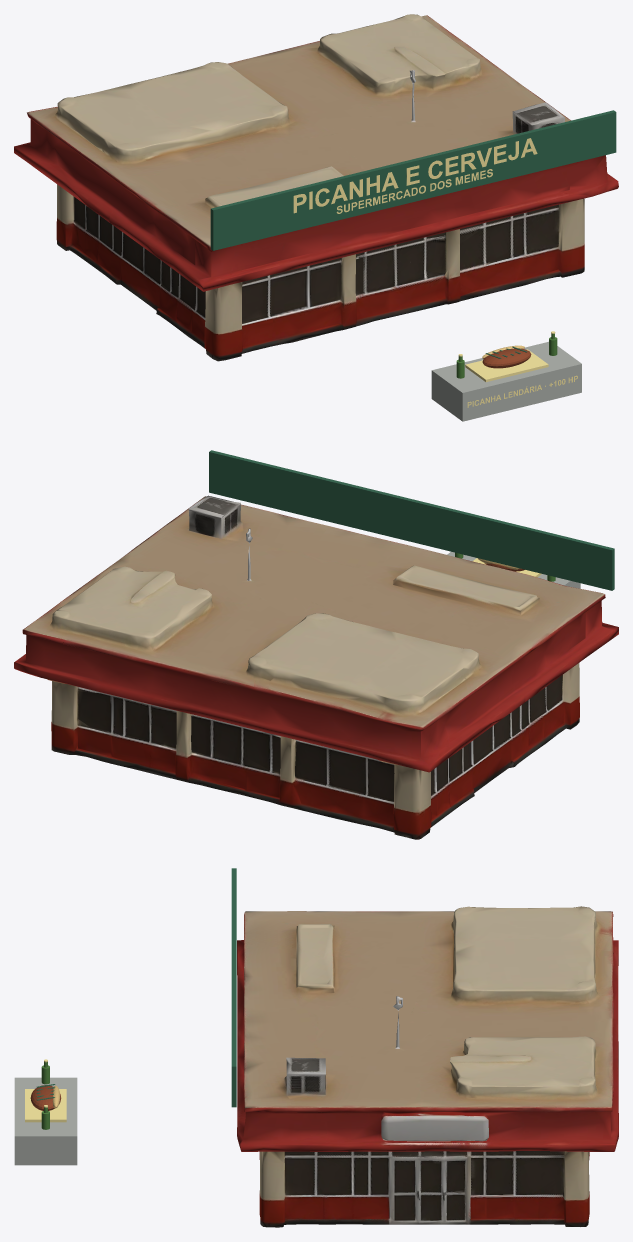
Rendered from secret-supermarket.glb.
The picture shows the model from 3 angles, top to bottom: view 1: azimuth 30°, elevation 25°; view 2: azimuth 150°, elevation 25°; view 3: azimuth 270°, elevation 25°; orthographic projection.
Parts seen in each view (by area): view 1: tripo_node_58e1c8db-f03f-4398-b671-cc76f4c10f46, Market_Header, Market_Display, Sign_PICANHA E CERVEJA, Picanha_Gold_Plate, Sign_SUPERMERCADO DOS MEMES, Picanha_Steak; view 2: tripo_node_58e1c8db-f03f-4398-b671-cc76f4c10f46, Market_Header; view 3: tripo_node_58e1c8db-f03f-4398-b671-cc76f4c10f46, Market_Display, Market_Header, Picanha_Gold_Plate.
Boxes of the visible parts, x1,y1,x2,y2 form: tripo_node_58e1c8db-f03f-4398-b671-cc76f4c10f46: [14, 14, 618, 361]; Market_Header: [210, 110, 616, 250]; Market_Display: [431, 341, 581, 421]; Sign_PICANHA E CERVEJA: [293, 138, 537, 213]; Picanha_Gold_Plate: [465, 349, 548, 382]; Sign_SUPERMERCADO DOS MEMES: [336, 169, 492, 213]; Picanha_Steak: [482, 348, 531, 368]; tripo_node_58e1c8db-f03f-4398-b671-cc76f4c10f46: [14, 495, 618, 839]; Market_Header: [209, 450, 614, 590]; tripo_node_58e1c8db-f03f-4398-b671-cc76f4c10f46: [237, 906, 618, 1227]; Market_Display: [14, 1077, 77, 1165]; Market_Header: [231, 868, 236, 1107]; Picanha_Gold_Plate: [25, 1089, 66, 1122].
Bounding box in the file's own units: 14 × 5.7 × 17.42.
Materials: 7 (1 with a texture image).
